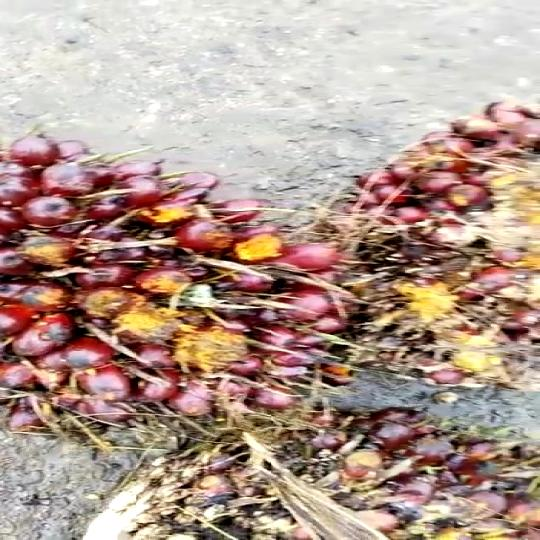masak: (0, 127, 372, 471)
